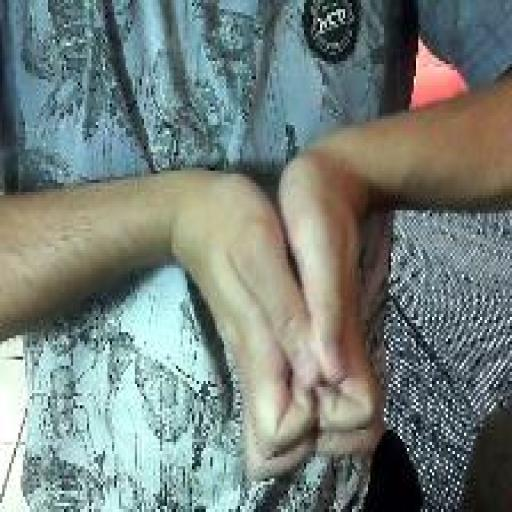I -boar-: (188, 151, 388, 486)
